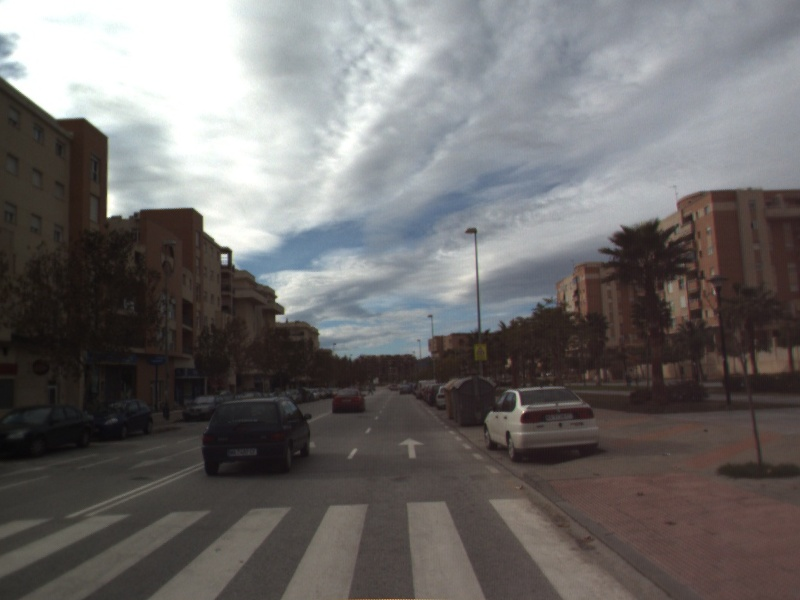STRAIGHT: (396, 435, 427, 460)
